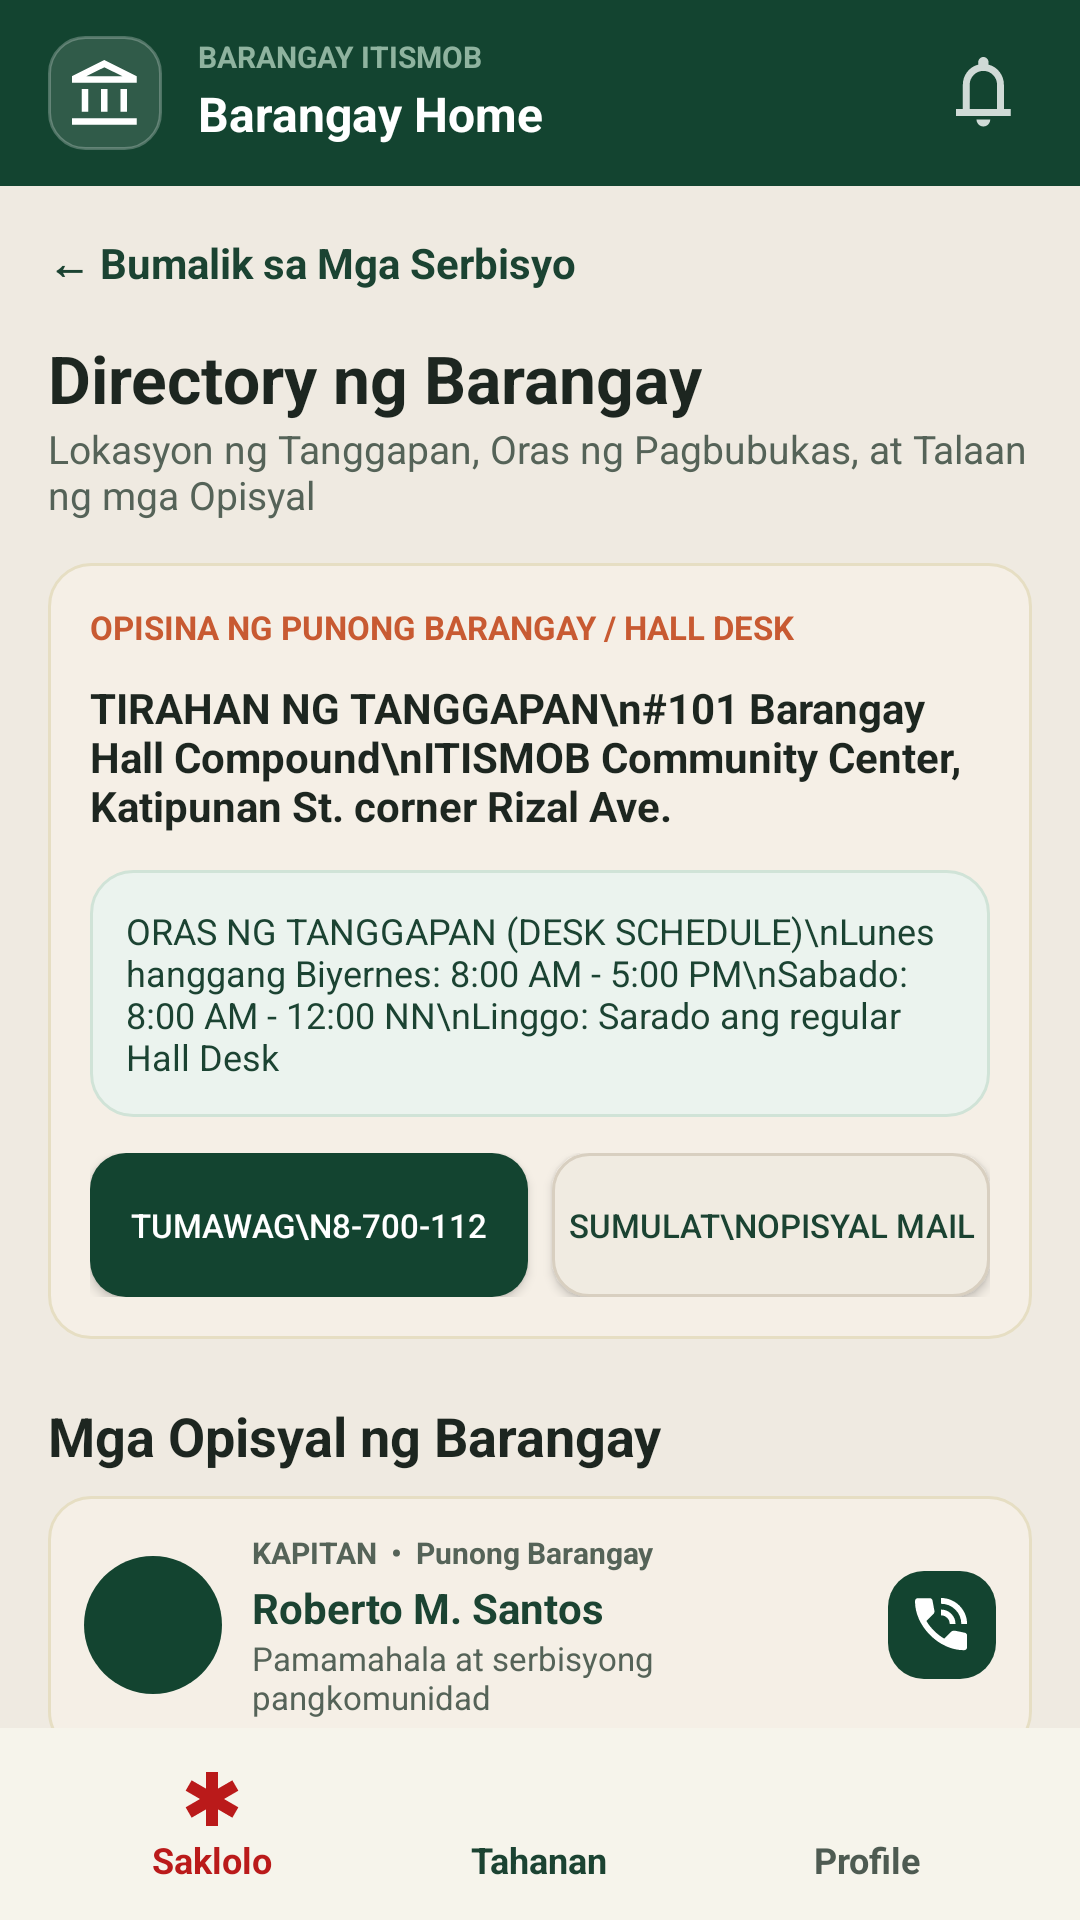

Point at icon controls on the screen. Image size 1080 × 1920, points as [x,y].
asterisk: [212,1799]
Contact official: [942,1625]
Notifications: [983,92]
